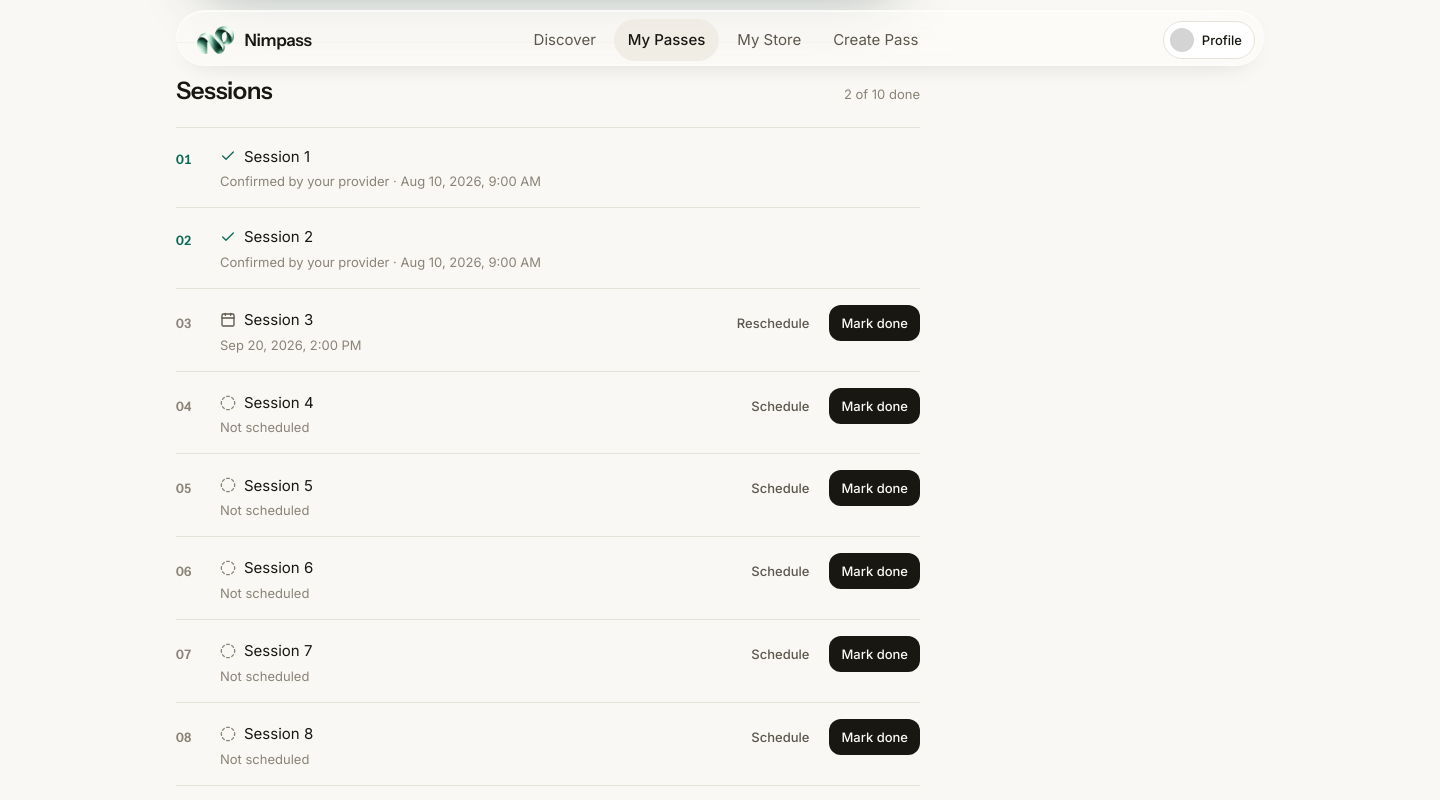
Test case: pass sessions › sends a completion to the backend and renders the counts it answers with
The image size is (1440, 800).
(page scrolled)
Click the button "Mark done" in the row of "04".
click(875, 406)  # box x1=829 y1=388 x2=920 y2=424
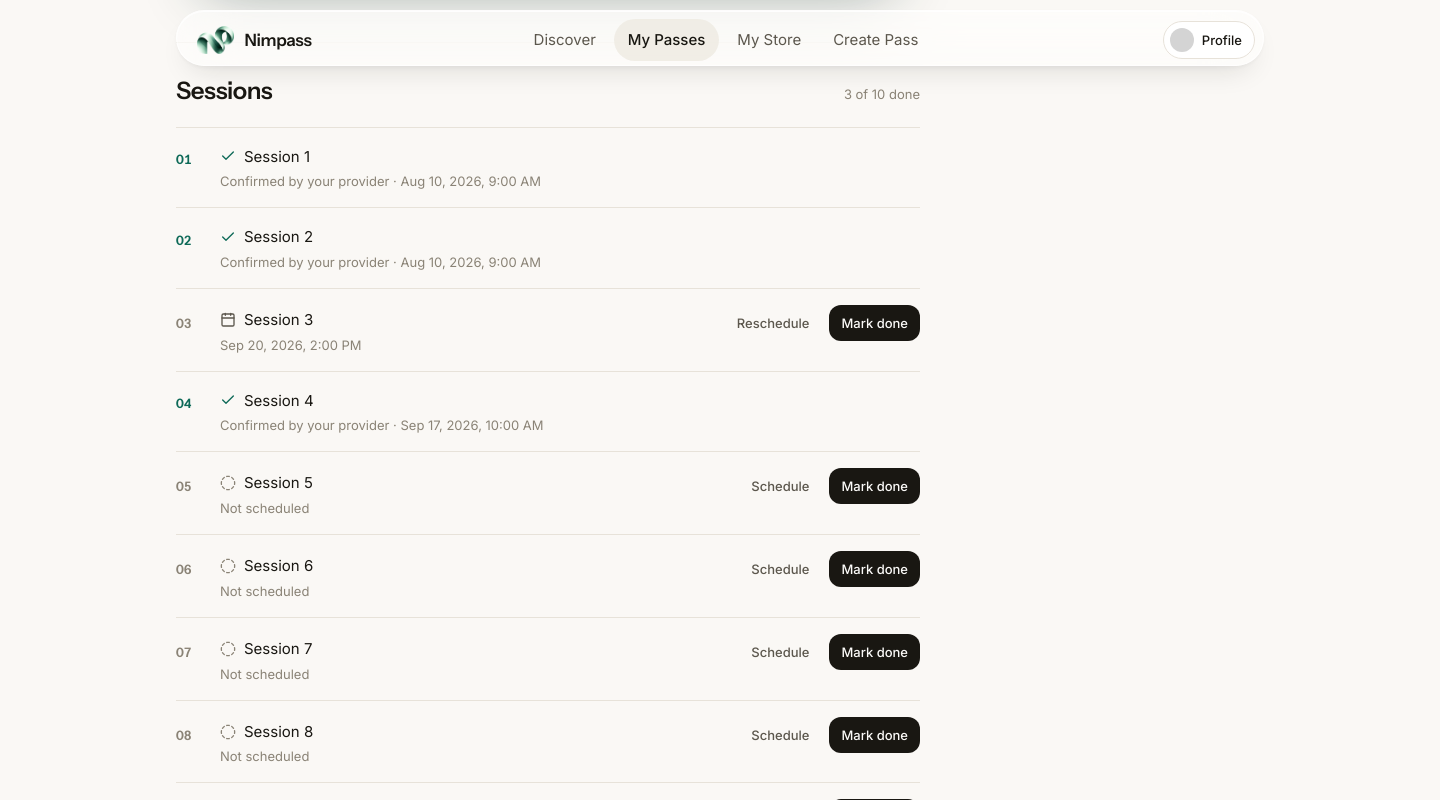
Expected: the text "Session 4" is shown, x1=220 y1=390 x2=314 y2=410
Result: the text "3 of 10 done" is shown at x1=844 y1=86 x2=920 y2=102
